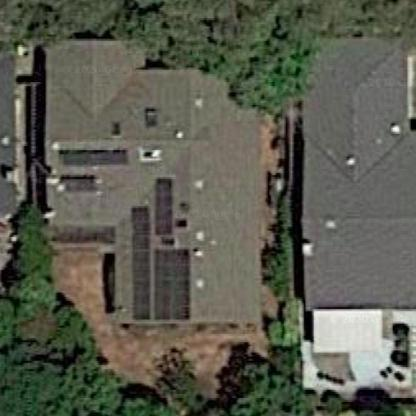solar_panel: (129, 176, 197, 326), (55, 144, 133, 195)
